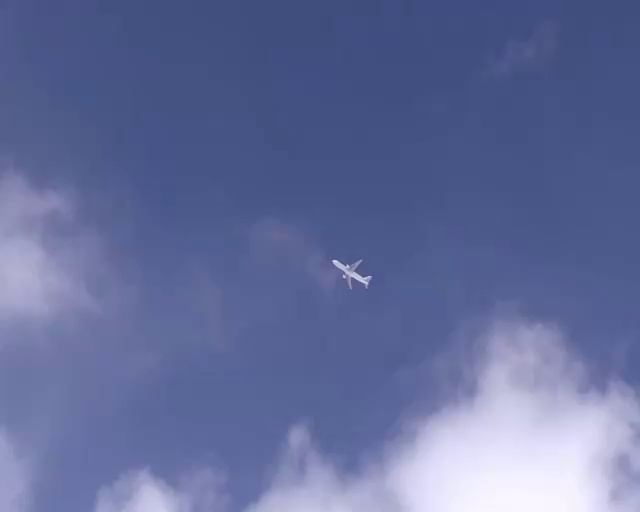AIRPLANE: (331, 258, 372, 290)
